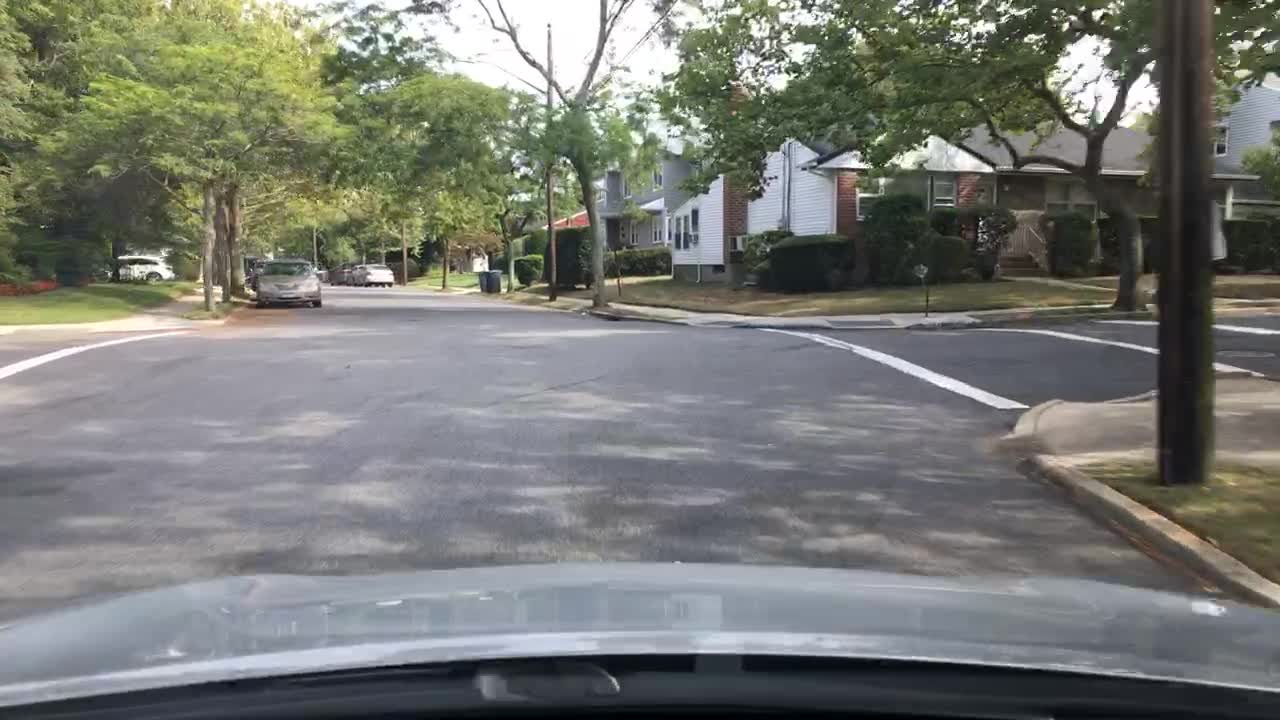car: (255, 255, 323, 311), (106, 254, 174, 285), (350, 260, 395, 287), (246, 257, 270, 290), (349, 262, 372, 285), (333, 267, 352, 284)
